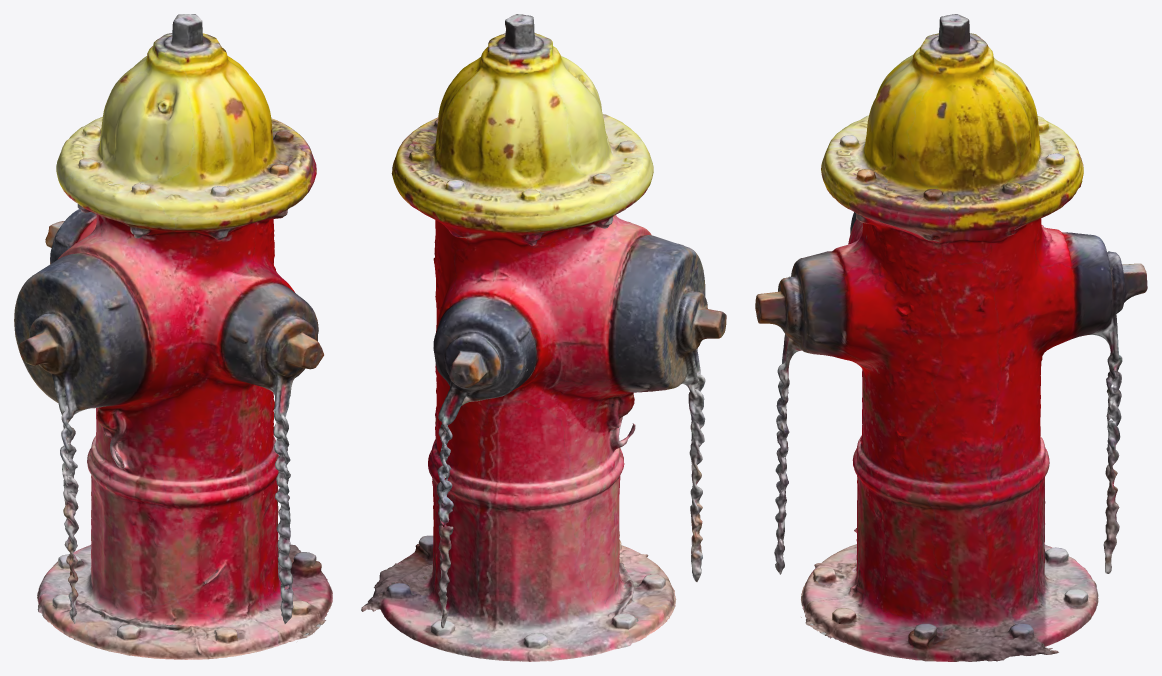
File: fire_hydrant.glb
3 renders of one model, left to right at view 1: azimuth 30°, elevation 25°; view 2: azimuth 150°, elevation 25°; view 3: azimuth 270°, elevation 25°, orthographic.
Parts seen in each view (by area): view 1: Object_2; view 2: Object_2; view 3: Object_2.
Boxes of the visible parts, x1,y1,x2,y2 form: Object_2: (14,14,332,659); Object_2: (361,14,726,661); Object_2: (755,14,1147,661).
Size of the model in its own units: 0.4826 by 0.865 by 0.5291.
3 materials, 1 textured.
